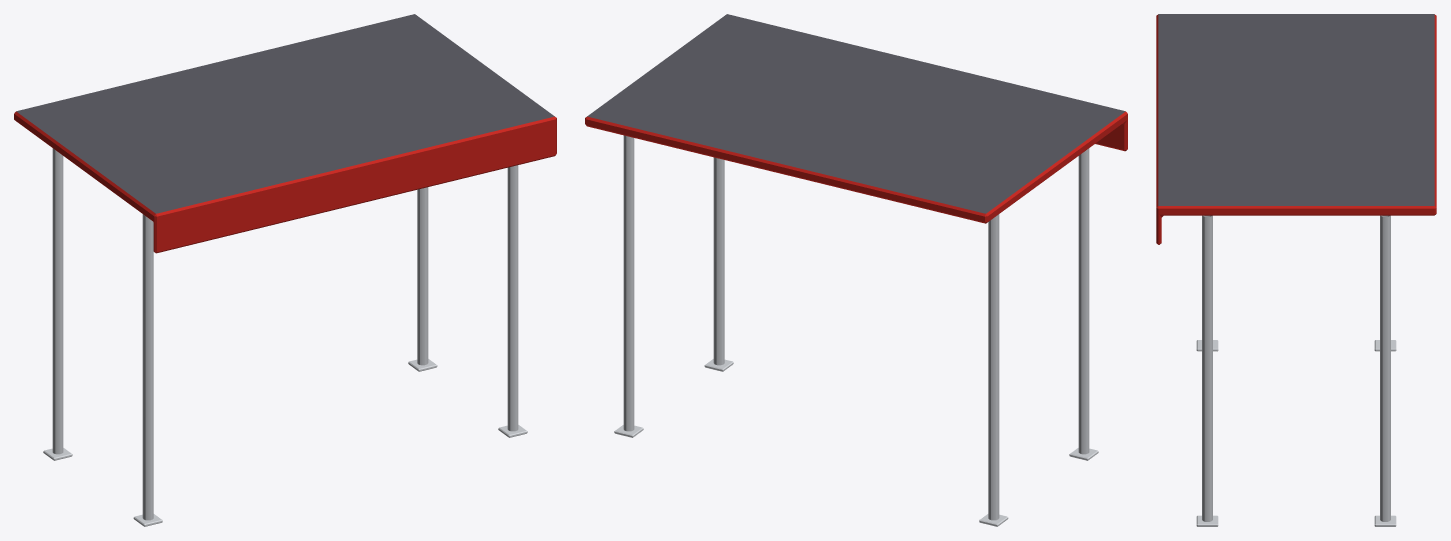
Rendered from techo_plano_chico.glb.
3 views of the same model, side by side, from view 1: azimuth 30°, elevation 25°; view 2: azimuth 150°, elevation 25°; view 3: azimuth 270°, elevation 25° (orthographic).
Parts seen in each view (by area): view 1: pieza_tramo, pieza_punta_izq, pieza_punta_der; view 2: pieza_tramo, pieza_punta_izq, pieza_punta_der; view 3: pieza_tramo, pieza_punta_der, pieza_punta_izq.
Boxes of the visible parts, box(x1,y1,x2,y2) form: pieza_tramo: box(85, 31, 486, 236); pieza_punta_izq: box(14, 94, 226, 526); pieza_punta_der: box(346, 14, 556, 437); pieza_tramo: box(655, 31, 1056, 206); pieza_punta_izq: box(915, 94, 1127, 526); pieza_punta_der: box(585, 14, 795, 437); pieza_tramo: box(1156, 47, 1436, 173); pieza_punta_der: box(1156, 172, 1436, 526); pieza_punta_izq: box(1156, 14, 1436, 351).
Size of what is drawn, in the model's own units: 1.7 by 1.33 by 1.04.
